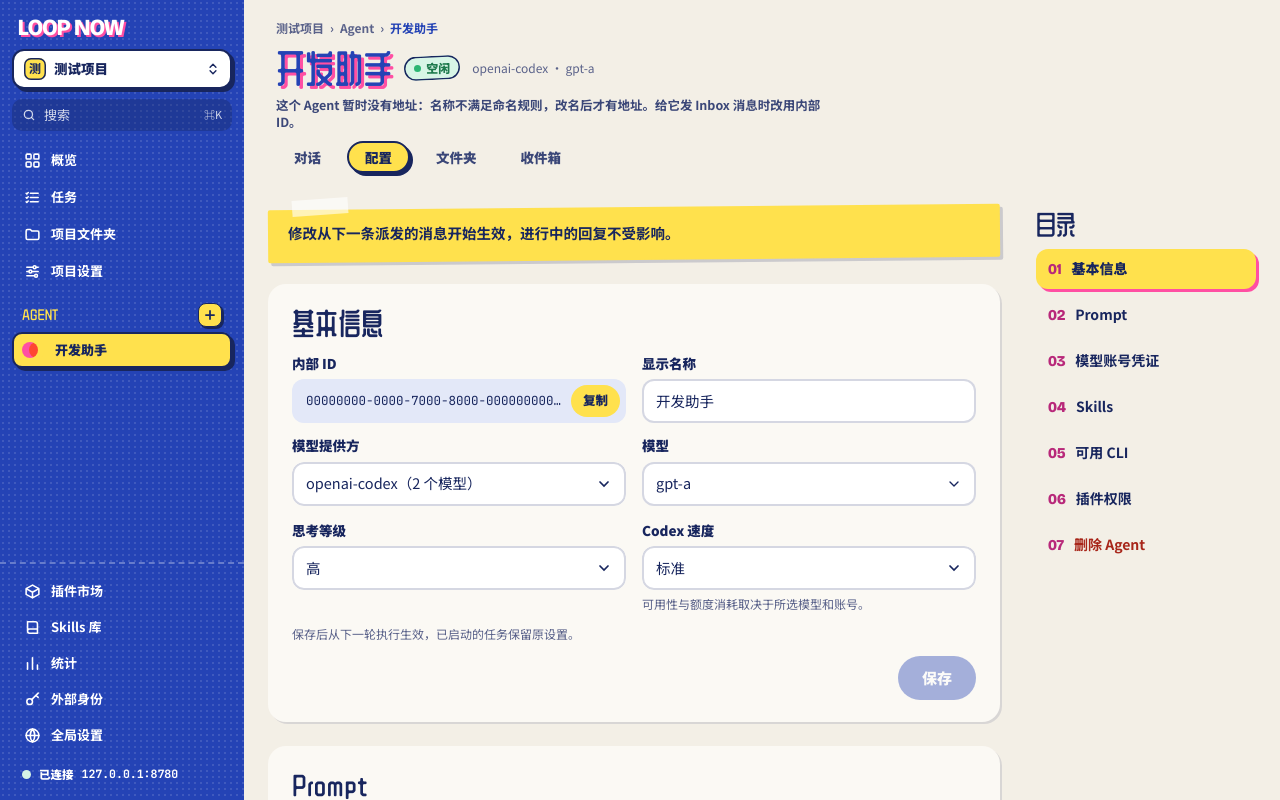
Test: 旧响应缺省为标准，仅列三档；速度和思考等级独立，单独保存速度
This screenshot has width=1280, height=800.
Expected: the element "基本信息" is shown, left=268, top=284, right=1000, bottom=722
Expected: the dropdown labelled "思考等级" is enabled, left=292, top=546, right=626, bottom=590
Select "Fast" in the dropdown labelled "Codex 速度". click: (809, 568)
box: left=642, top=546, right=976, bottom=590
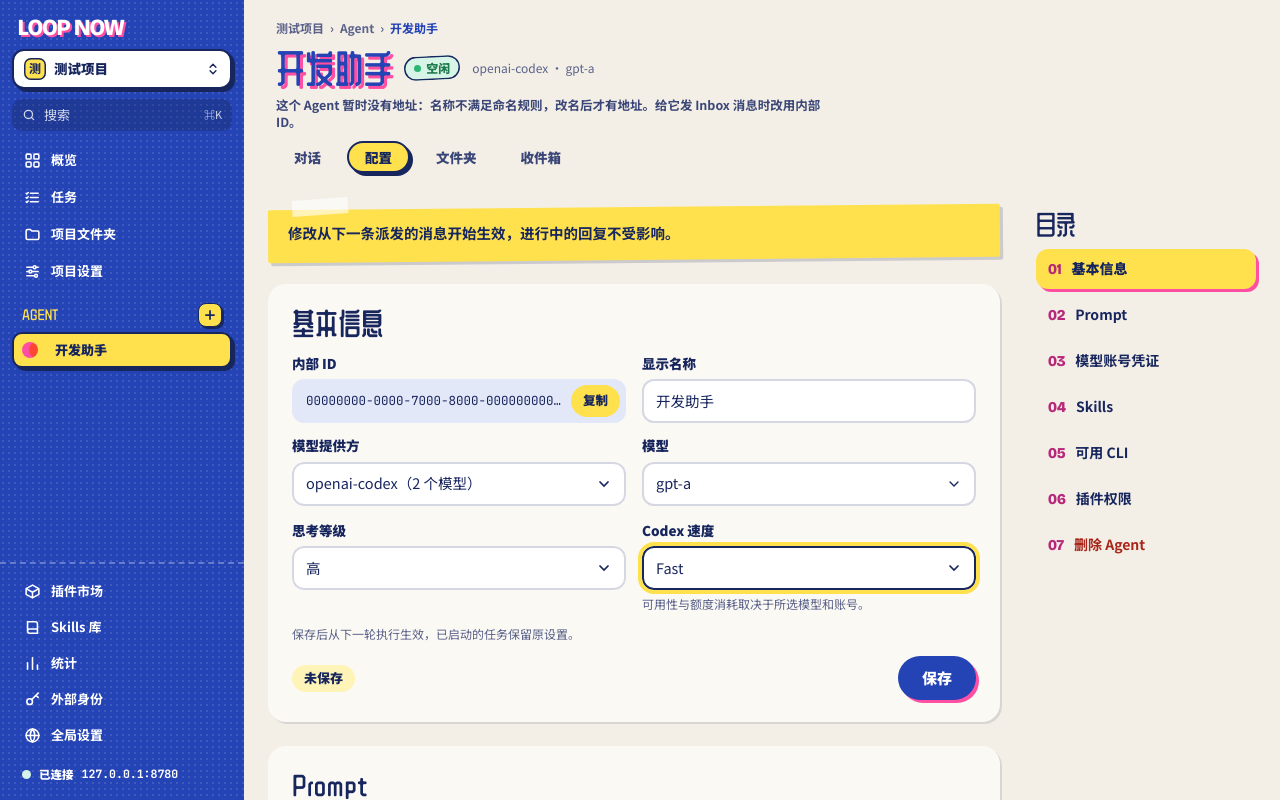
Expected: the dropdown labelled "思考等级" shows "高", left=292, top=546, right=626, bottom=590
Click the button "保存". click: (937, 678)
box: left=898, top=656, right=976, bottom=700
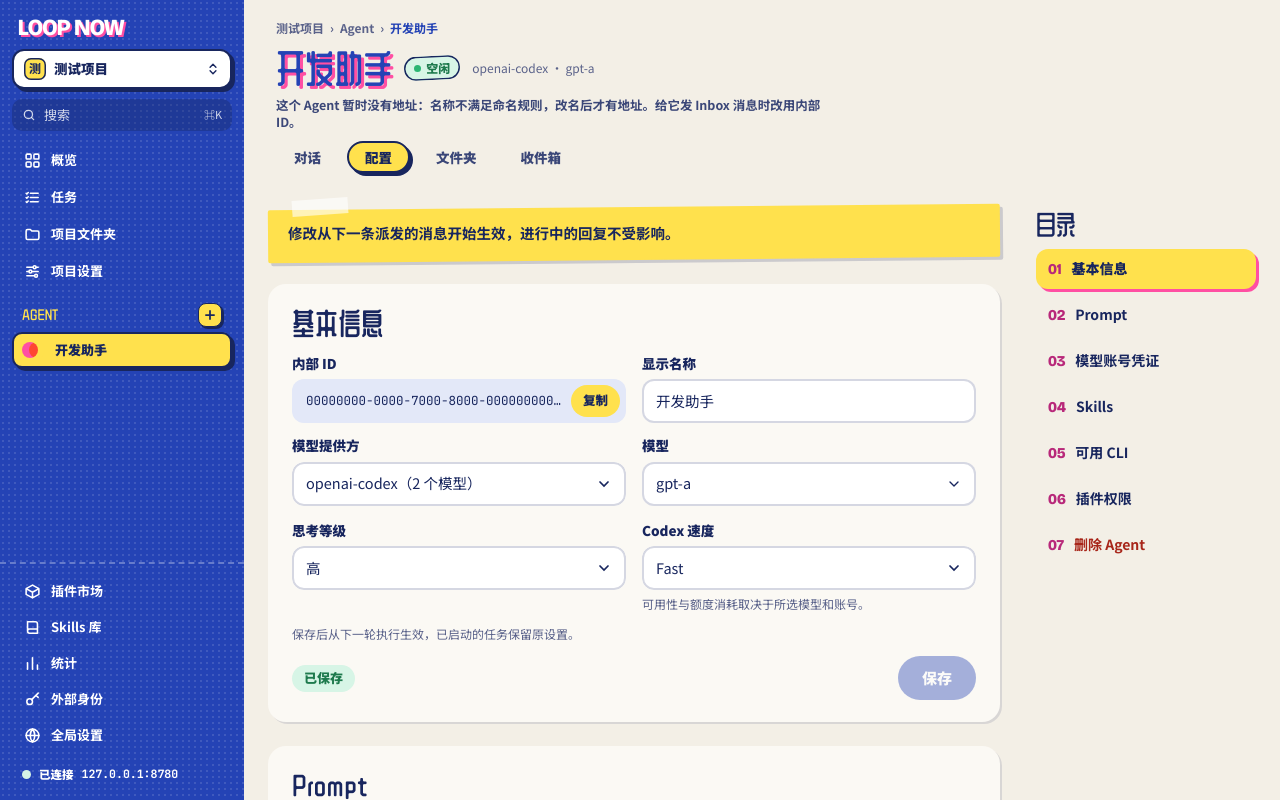
Expected: the button "保存" is disabled, left=898, top=656, right=976, bottom=700
